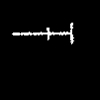double_crochet: (13, 23, 72, 43)
